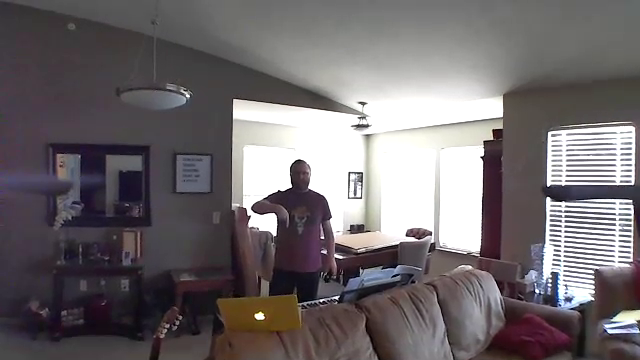down: (274, 202, 293, 227)
